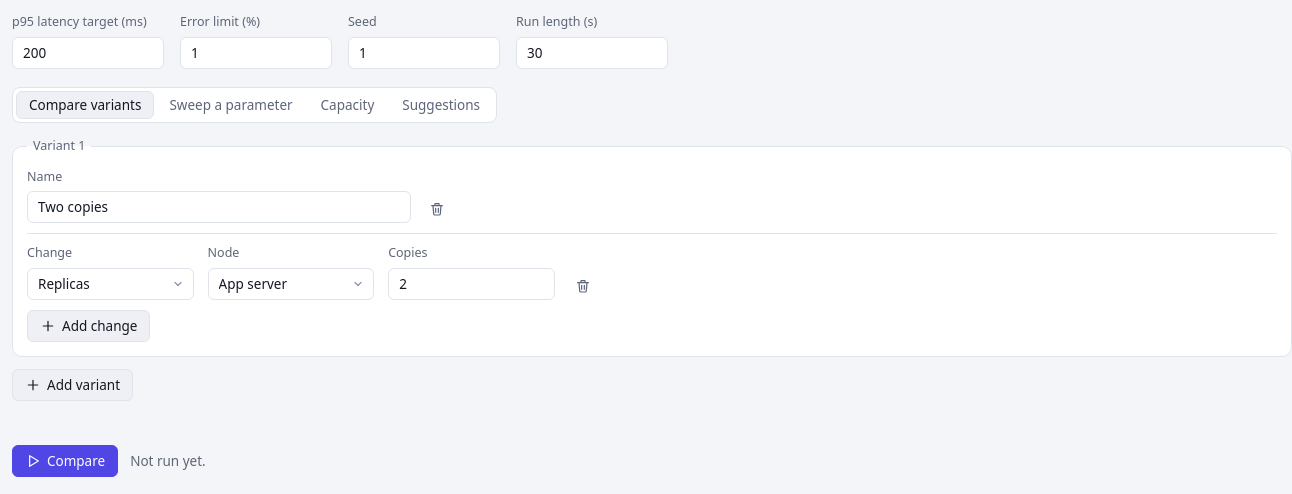
Test: WhatIfTab › cancels a run and reports failures
Click the button "Capacity": (347, 105) x1=308 y1=91 x2=387 y2=119
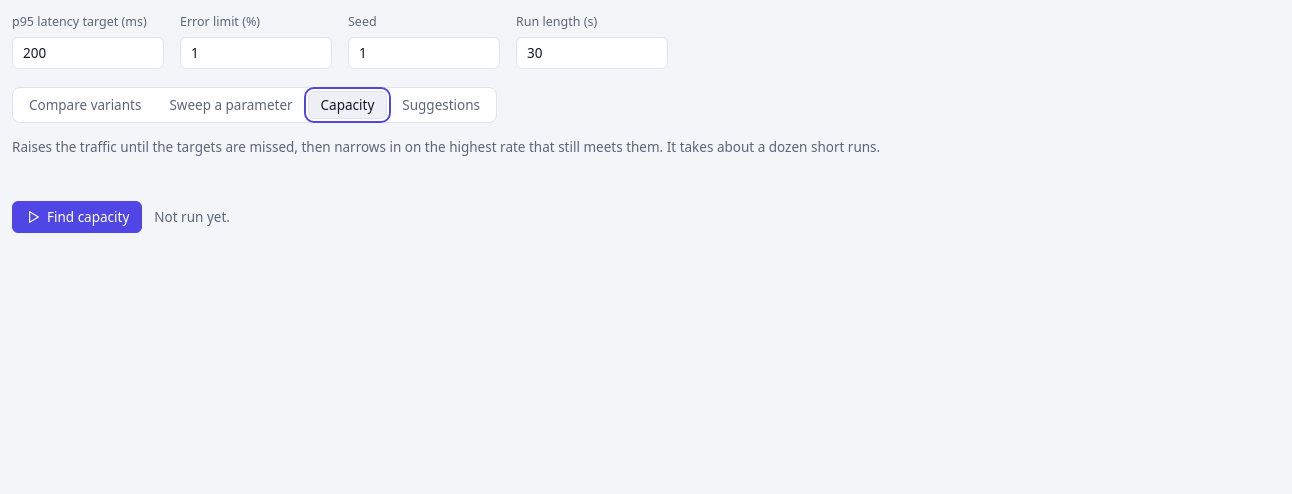
Click the button "Find capacity": (77, 217) x1=12 y1=201 x2=142 y2=233
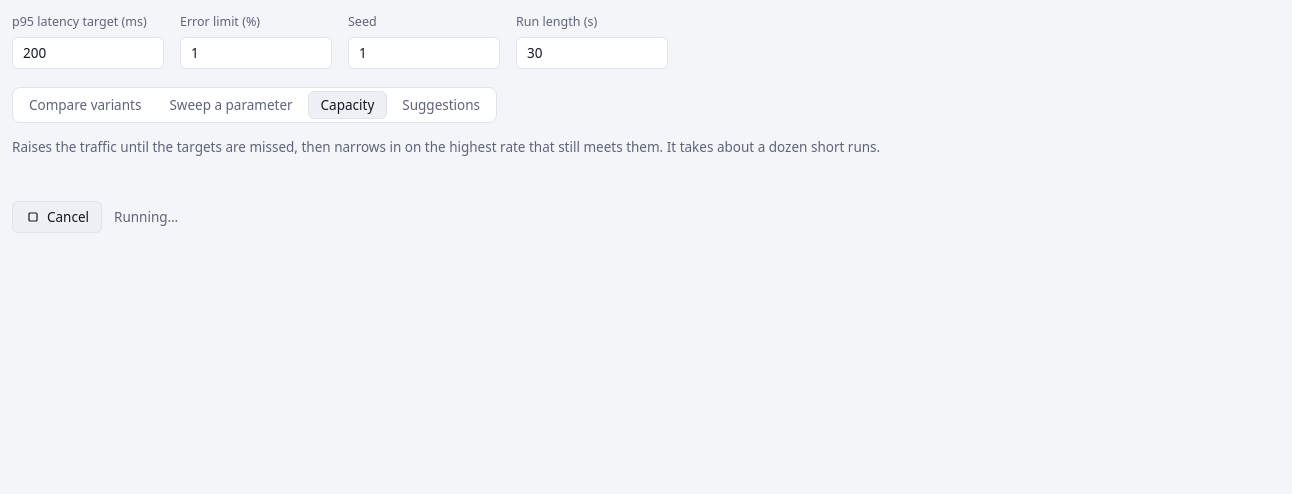
Click the button "Cancel": (57, 217) x1=12 y1=201 x2=102 y2=233
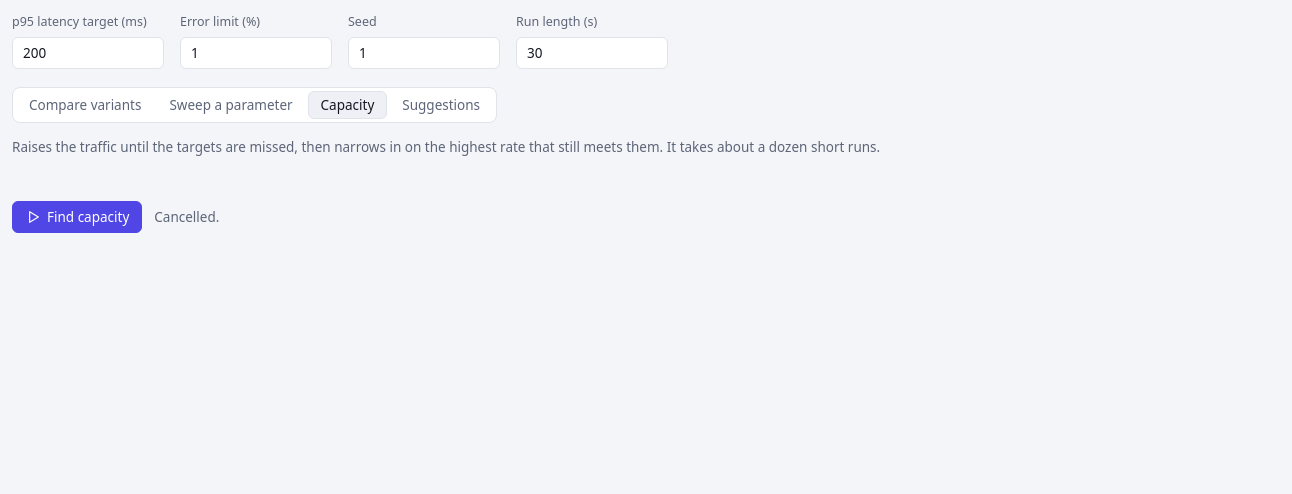
Check: the text "Cancelled." is shown, box x1=154 y1=207 x2=219 y2=227
Click the button "Find capacity": (77, 217) x1=12 y1=201 x2=142 y2=233
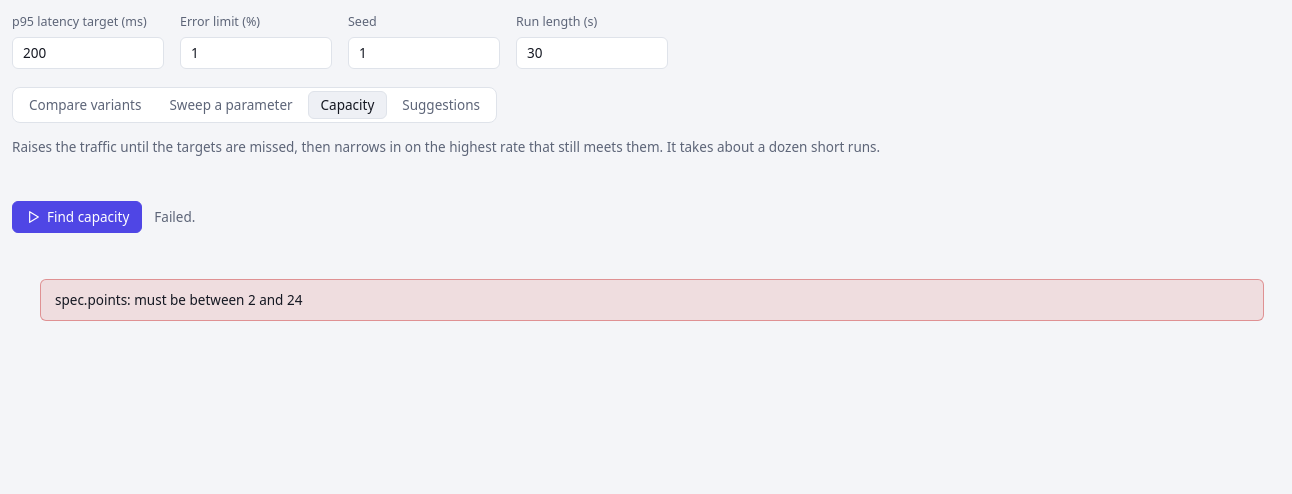
Check: the text "spec.points: must be between 2 and 24" is shown, box x1=40 y1=279 x2=1264 y2=321
